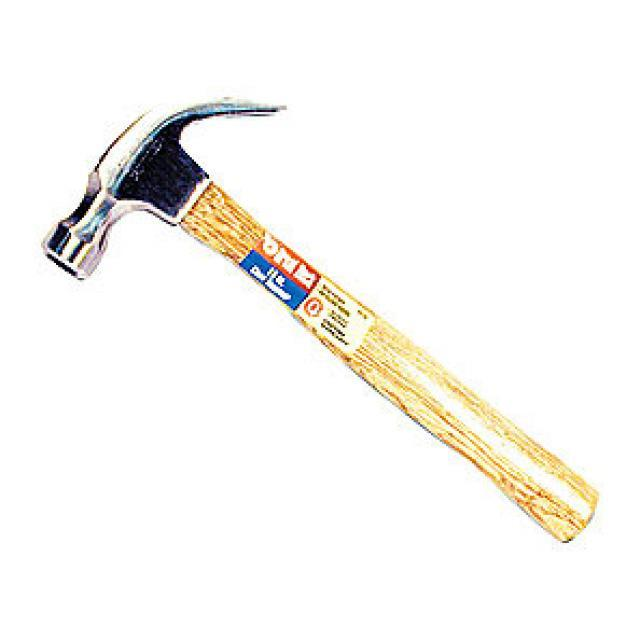hammer: (36, 72, 611, 558)
